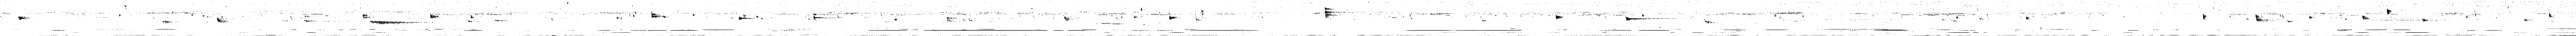meteor: (1625, 16, 1677, 21), (370, 20, 421, 25), (1324, 7, 1349, 16), (813, 15, 836, 21), (2256, 13, 2269, 21), (1704, 18, 1717, 25), (738, 16, 754, 21), (652, 11, 662, 18), (217, 18, 228, 23), (1168, 15, 1180, 20), (430, 15, 440, 20), (1556, 15, 1564, 20), (2362, 15, 2371, 20), (18, 16, 30, 20), (1063, 16, 1069, 21), (2422, 18, 2428, 21)
